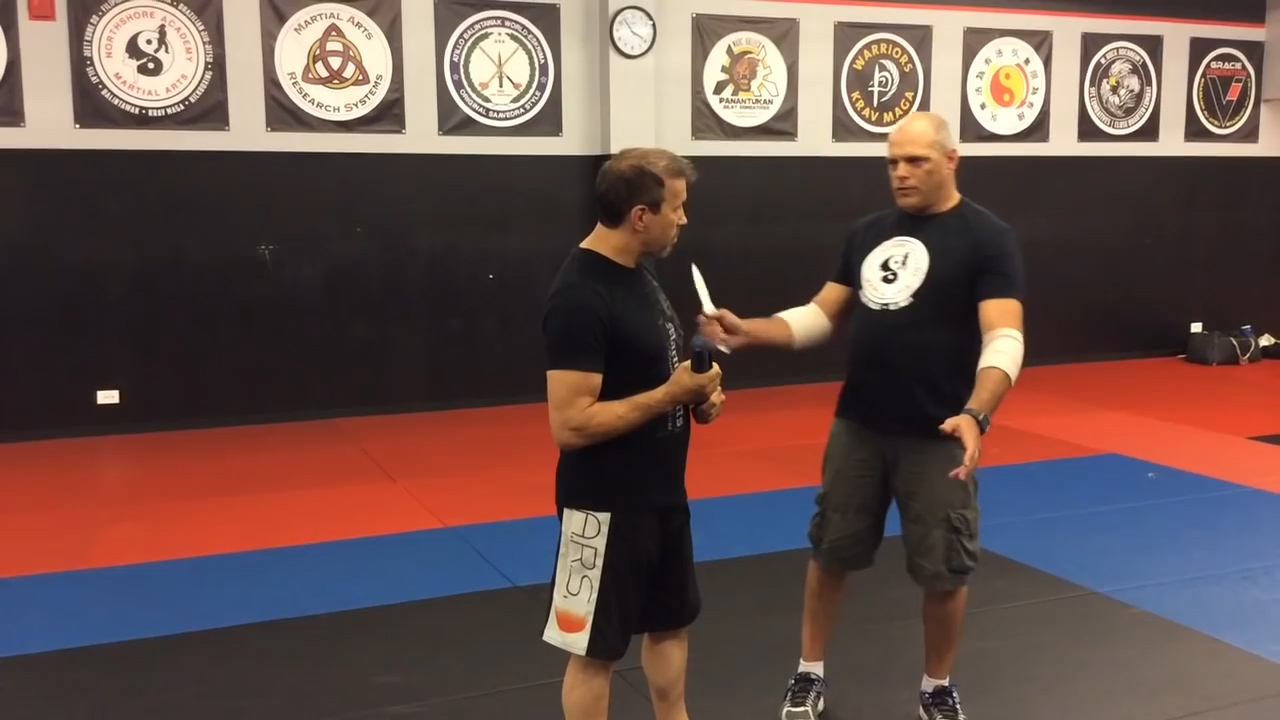knife: (687, 256, 737, 357)
